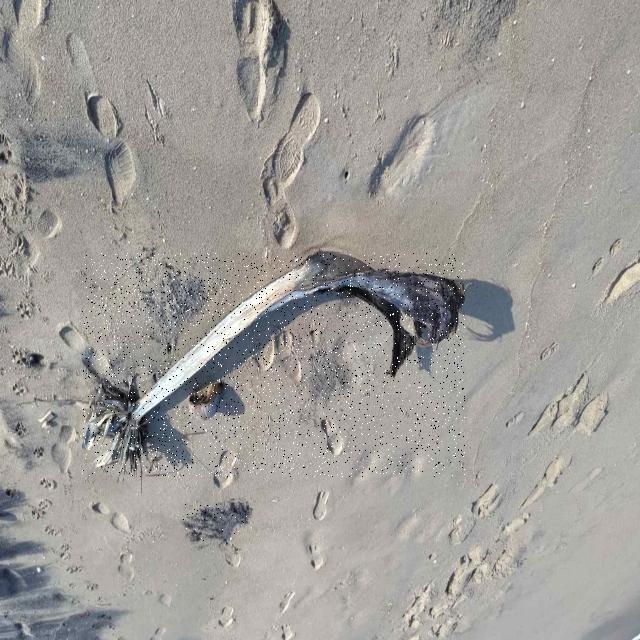biowaste: (82, 253, 465, 476), (184, 504, 252, 544), (188, 383, 223, 421)
